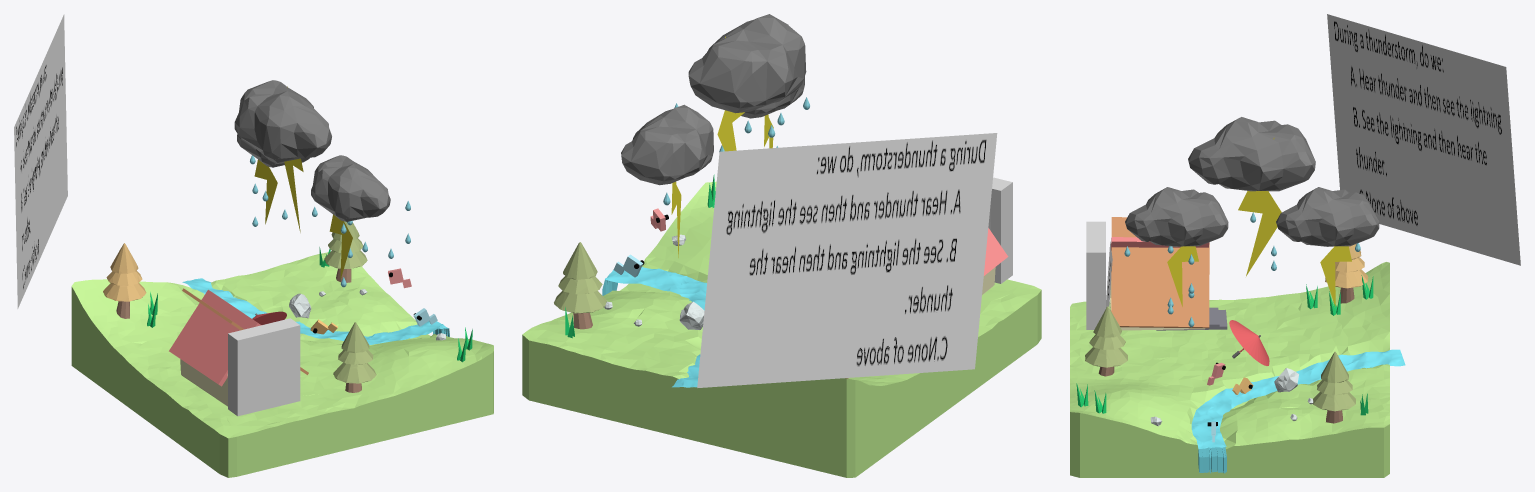
The model's file is thunderQ1.glb.
The picture shows the model from 3 angles, left to right: view 1: azimuth 30°, elevation 25°; view 2: azimuth 150°, elevation 25°; view 3: azimuth 270°, elevation 25°; orthographic projection. The views are drawn at different scales.
Visible parts, largest first — view 1: terrain, pPlane2, Cube, cloud, house:pCube6, pPlatonic1, water, house:pCube4, pCylinder1, trees:pCylinder8, Thunder1, pCylinder4 (+3 smaller); view 2: pPlane2, terrain, cloud, clouds:pPlatonic1, water, Cube, trees:pCylinder1, trees:pCylinder4, trees:pCylinder3, Thunder, pPlatonic1, house:pCube6 (+1 smaller); view 3: terrain, pPlane2, house:pCube5, cloud, pPlatonic1, clouds:pPlatonic1, water, Cube, Thunder, umbrella:Mesh, Thunder1, Thunder2 (+6 smaller).
Boxes of the visible parts, x1,y1,x2,y2 form: terrain: (71, 252, 493, 477); pPlane2: (14, 14, 67, 308); Cube: (228, 318, 300, 416); cloud: (234, 80, 331, 162); house:pCube6: (169, 289, 260, 386); pPlatonic1: (311, 155, 390, 221); water: (182, 278, 449, 344); house:pCube4: (180, 359, 227, 405); pCylinder1: (333, 362, 376, 383); trees:pCylinder8: (103, 283, 146, 301); Thunder1: (254, 159, 277, 224); pCylinder4: (341, 322, 369, 352); pPlane2: (697, 133, 997, 387); terrain: (522, 181, 1041, 477); cloud: (688, 14, 806, 113); clouds:pPlatonic1: (621, 104, 713, 185); water: (602, 267, 706, 387); Cube: (990, 177, 1012, 283); trees:pCylinder1: (554, 290, 607, 313); trees:pCylinder4: (563, 242, 597, 279); trees:pCylinder3: (558, 276, 602, 294); Thunder: (717, 36, 744, 151); pPlatonic1: (741, 76, 804, 118); house:pCube6: (984, 228, 1008, 275); terrain: (1070, 262, 1389, 477); pPlane2: (1327, 14, 1520, 265); house:pCube5: (1111, 217, 1209, 328); cloud: (1188, 117, 1315, 191); pPlatonic1: (1125, 187, 1228, 246); clouds:pPlatonic1: (1276, 187, 1379, 246); water: (1191, 349, 1405, 473); Cube: (1086, 221, 1105, 329); Thunder: (1238, 137, 1281, 276); umbrella:Mesh: (1229, 320, 1269, 365); Thunder1: (1320, 246, 1351, 306); Thunder2: (1167, 246, 1198, 306).
Bounding box in the file's own units: 0.4613 × 0.3569 × 0.4738.
Materials: 33 (2 with a texture image).
